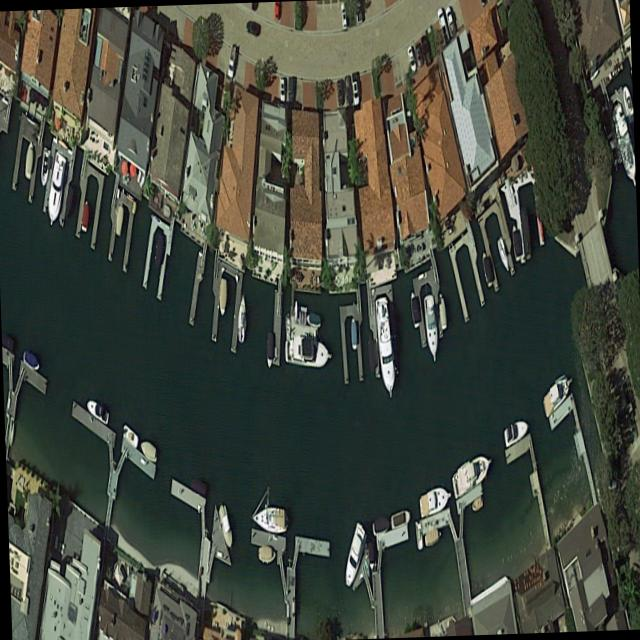ship: (610, 101, 636, 211), (373, 298, 395, 400), (450, 446, 492, 499), (540, 365, 575, 420), (341, 519, 366, 593), (43, 150, 65, 234), (284, 335, 330, 371), (417, 481, 451, 520), (421, 292, 438, 366), (250, 504, 283, 533), (215, 503, 233, 553), (502, 416, 527, 447), (84, 395, 108, 427), (150, 230, 165, 275), (235, 292, 247, 345), (519, 206, 530, 262), (495, 235, 509, 274), (37, 145, 49, 190), (22, 138, 34, 181), (479, 250, 492, 288), (389, 507, 409, 530), (21, 348, 38, 375), (138, 437, 155, 463), (370, 515, 389, 537), (79, 197, 89, 237), (436, 291, 446, 330), (113, 200, 123, 239), (121, 425, 137, 449), (423, 526, 440, 548), (408, 292, 418, 329), (62, 183, 72, 218), (510, 224, 519, 262), (257, 545, 274, 565), (218, 277, 226, 316), (190, 476, 205, 496), (264, 332, 272, 369), (414, 519, 422, 551), (469, 494, 481, 514), (305, 313, 320, 328), (366, 541, 373, 570), (349, 319, 355, 349)
small-vehicle: (435, 6, 449, 47), (418, 32, 432, 69), (443, 5, 455, 37), (225, 42, 235, 78), (342, 72, 352, 106), (349, 71, 359, 105), (413, 42, 424, 70), (405, 45, 416, 73), (244, 17, 258, 38), (338, 2, 347, 29), (334, 79, 342, 108), (286, 75, 293, 103), (278, 77, 285, 103)
